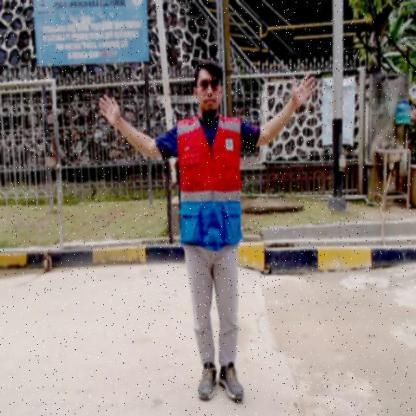boots: (217, 359, 248, 405), (192, 360, 220, 400)
